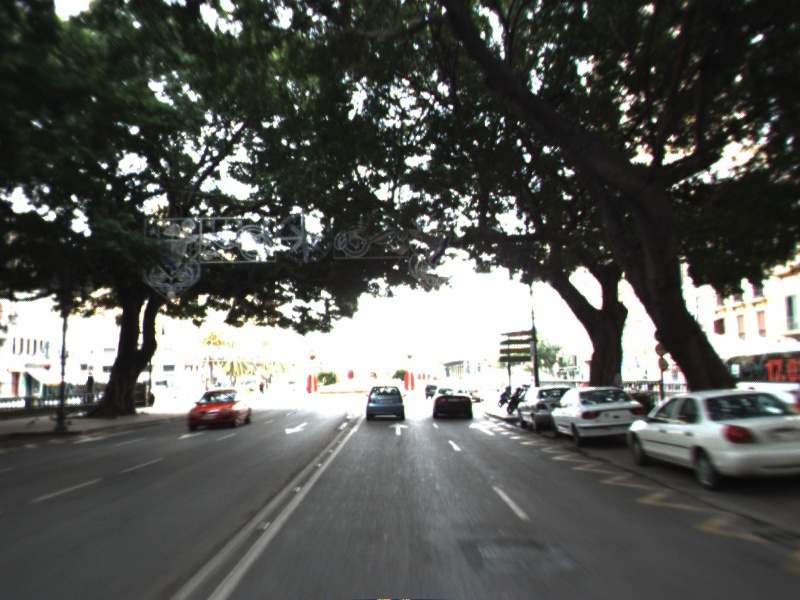STRAIGHT: (467, 421, 498, 437), (386, 421, 411, 437)
